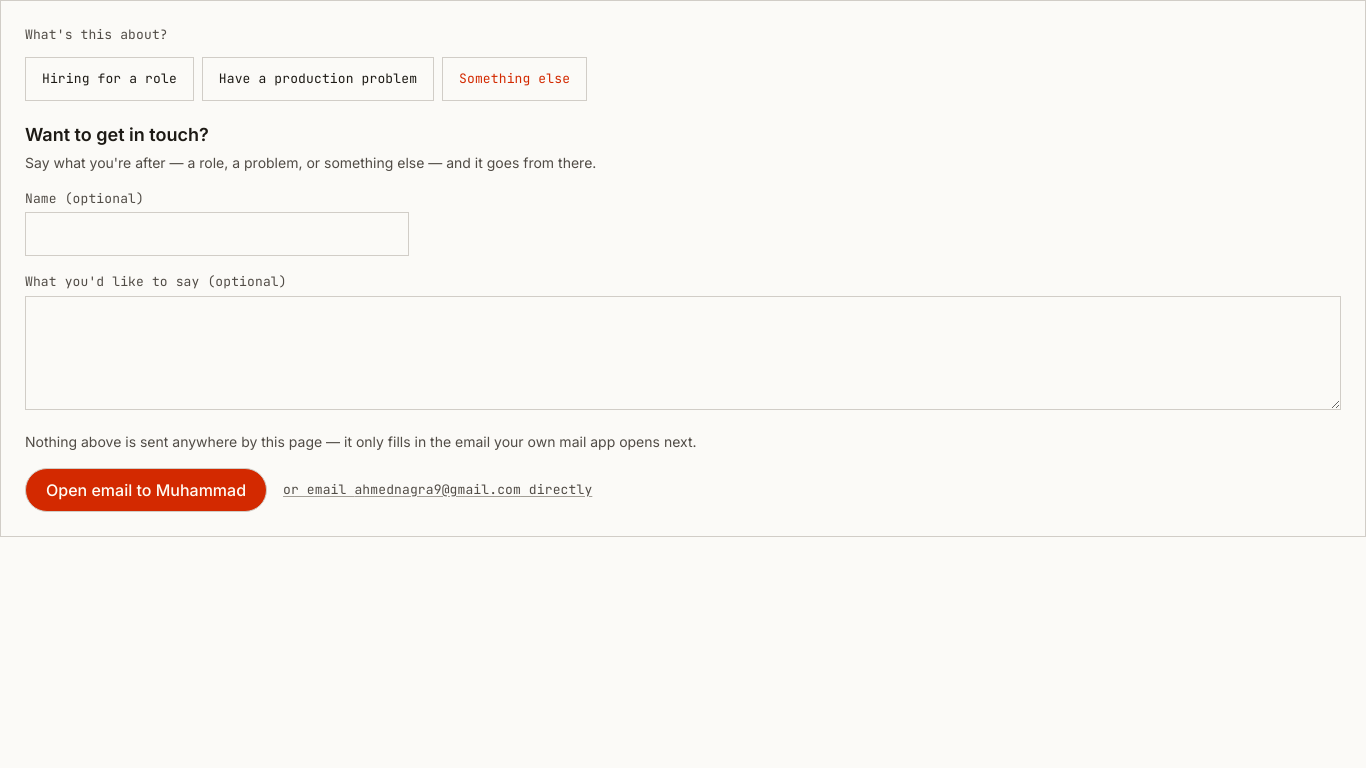
ContactPath › switching the intent chip updates the greeting and the mailto subject prefix
The image size is (1366, 768).
Click the button "Hiring for a role": (109, 78) [25,56,194,100]
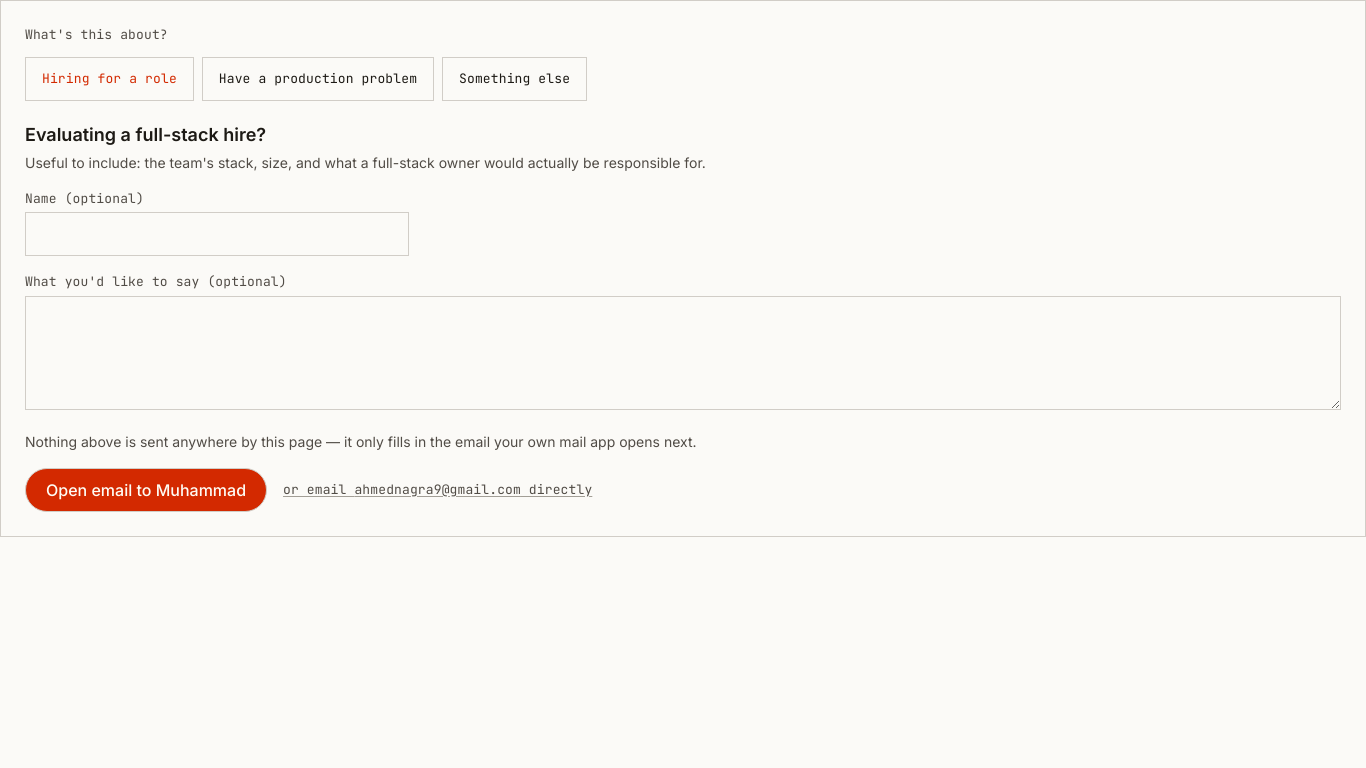
Check: the text "Evaluating a full-stack hire?" is shown, box [25,124,266,144]
